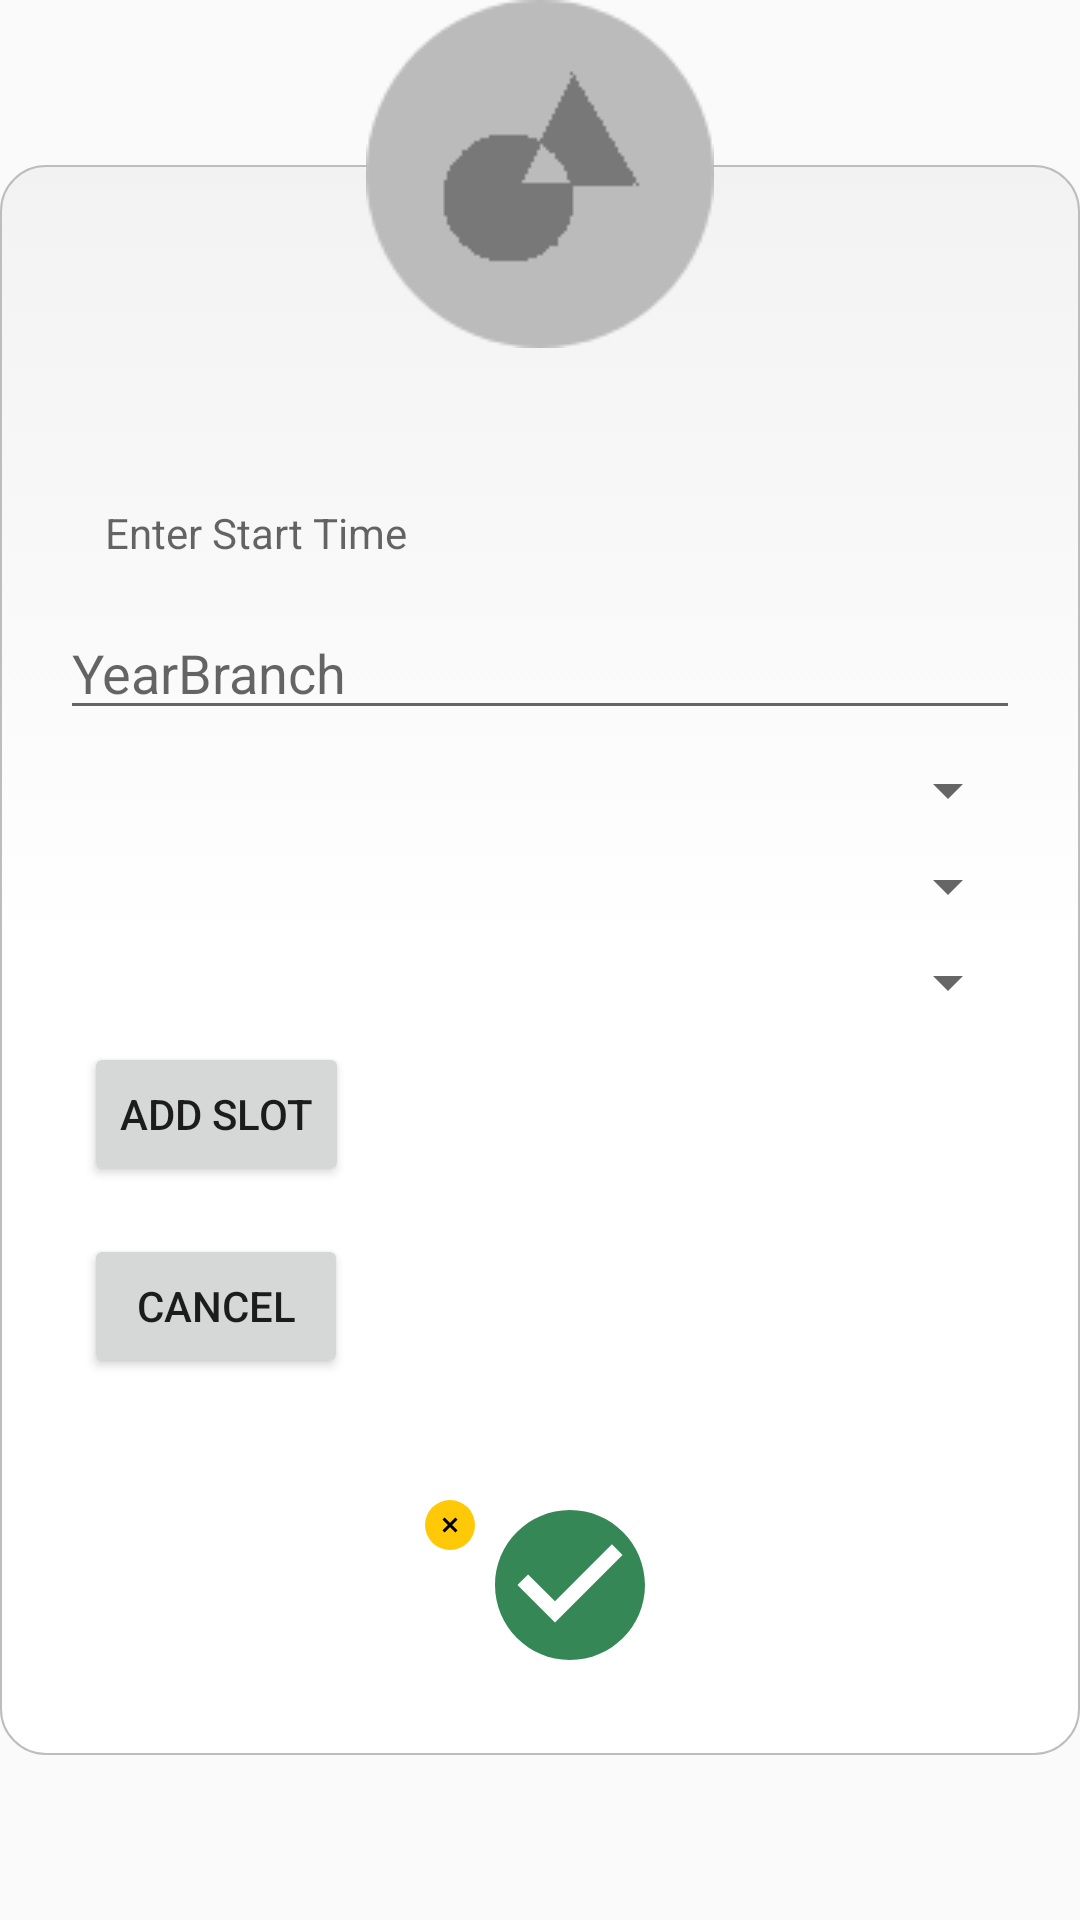

Where to tap for icons on this 1080*1920 app screen, as (x,y):
check circle: (570,1585)
